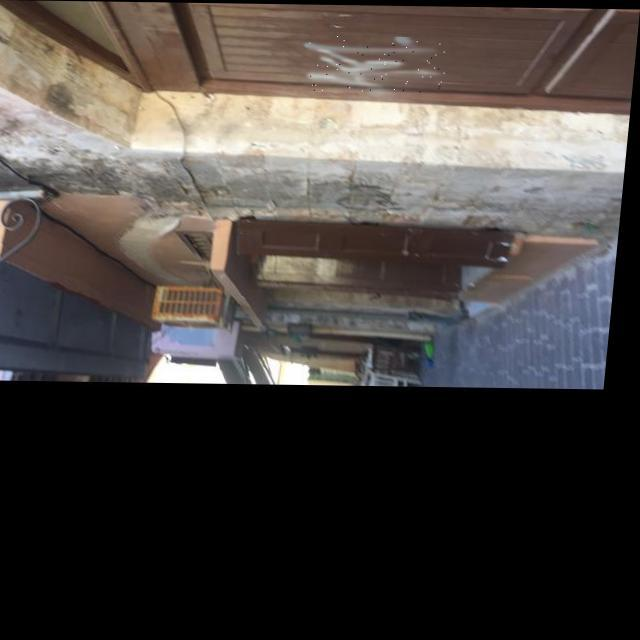-: (306, 34, 448, 92)
